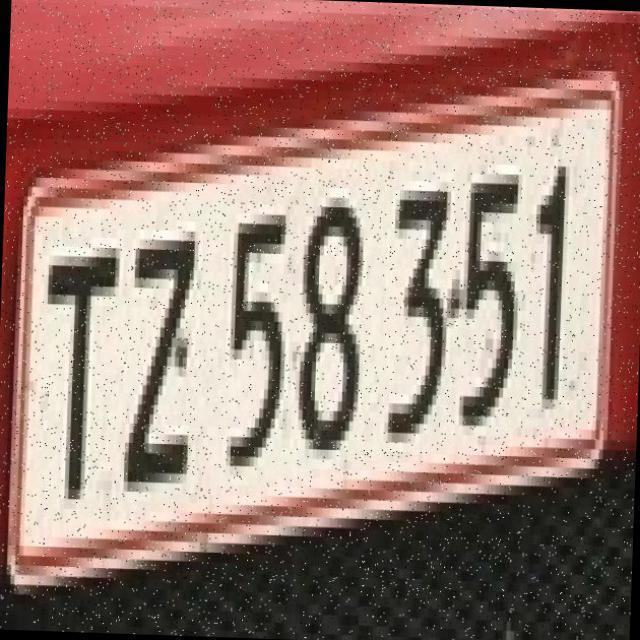License Plate: (0, 153, 622, 572)
